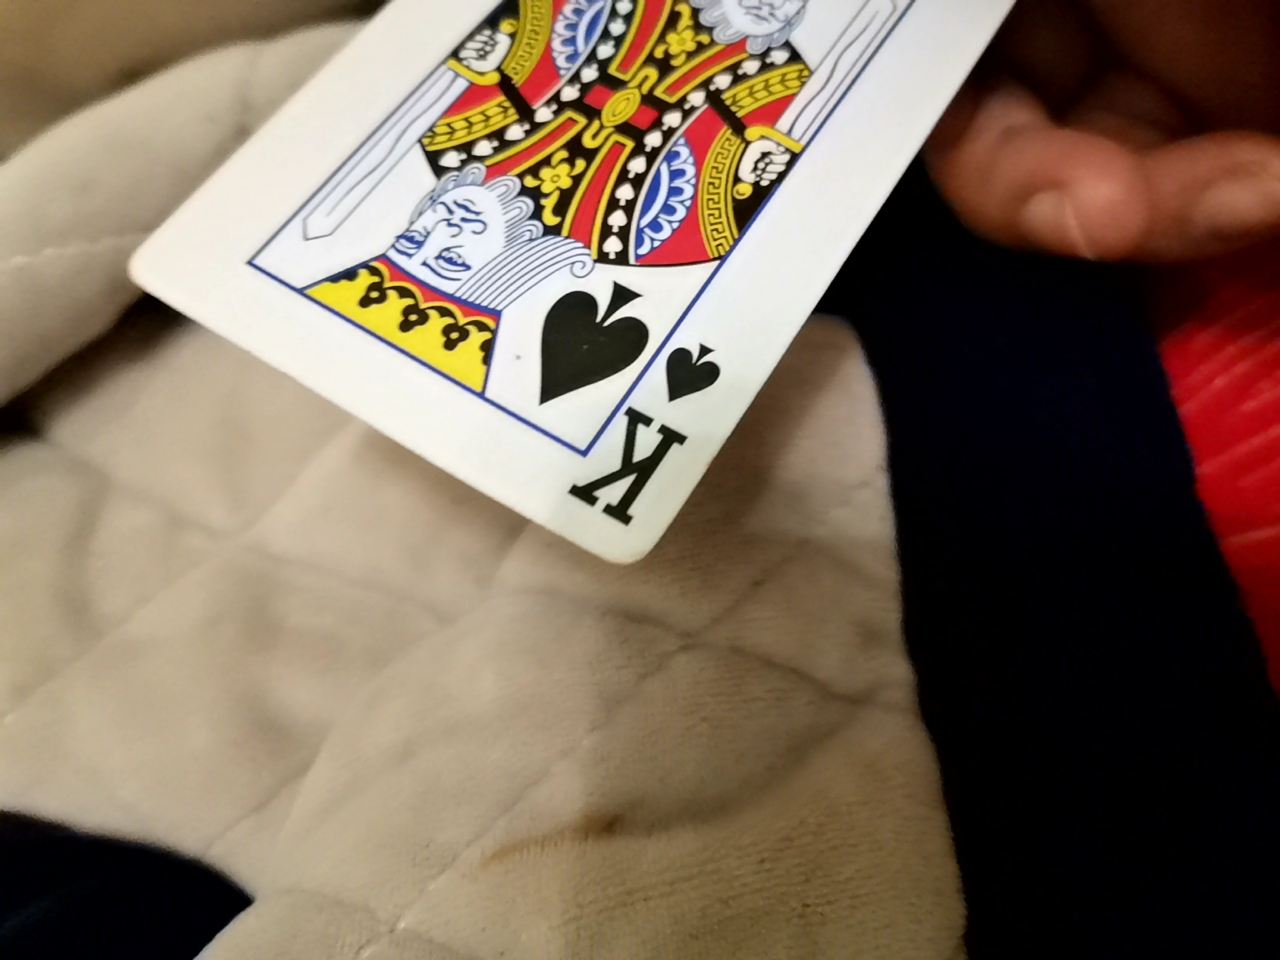ht k: (118, 19, 1120, 585)
